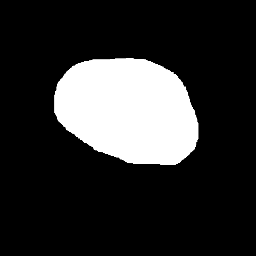mass: (57, 60, 188, 152)
